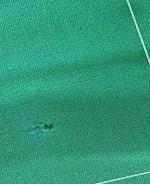knot: (34, 120, 61, 136)
